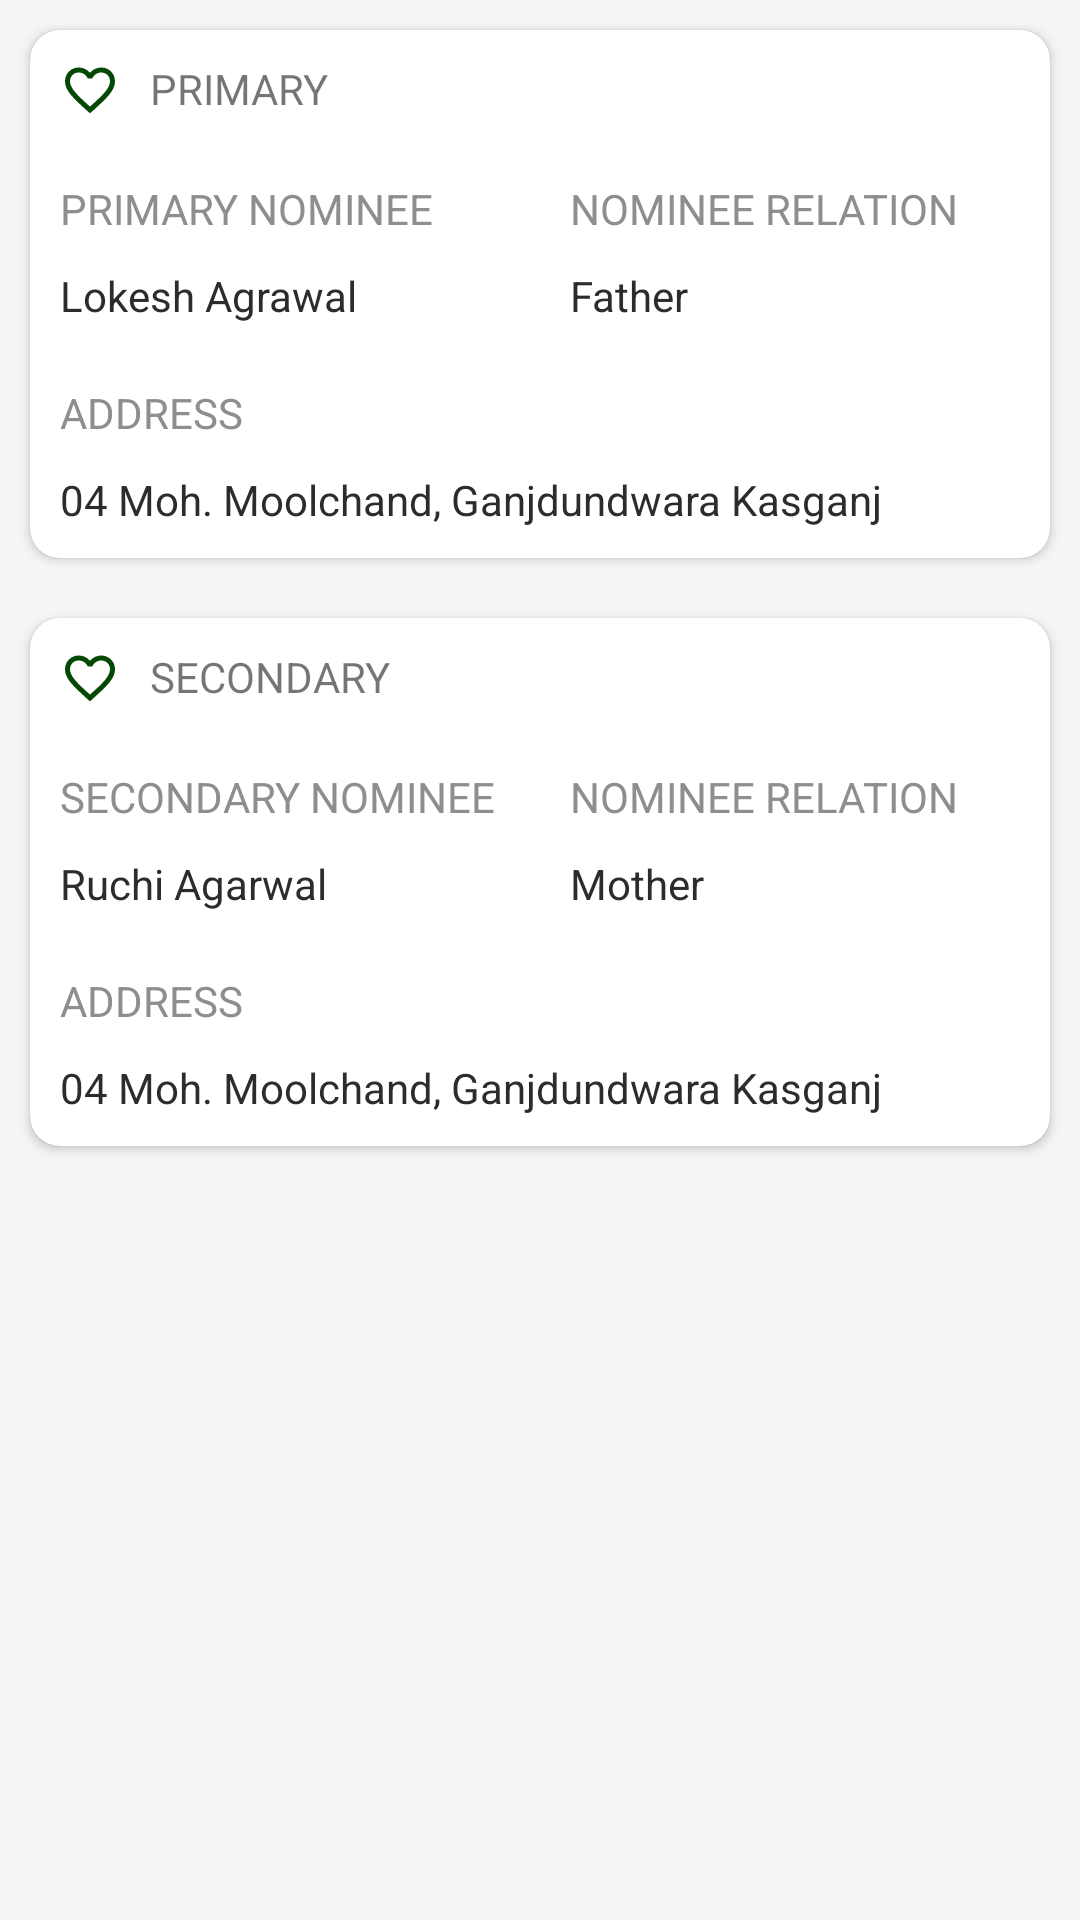

Icon bounding boxes for this 1080w x 1920h phone screenshot, format (left=x1, top=y1, right=x2, bottom=y2):
heart: (left=65, top=67, right=115, bottom=113), (left=65, top=655, right=115, bottom=701)
